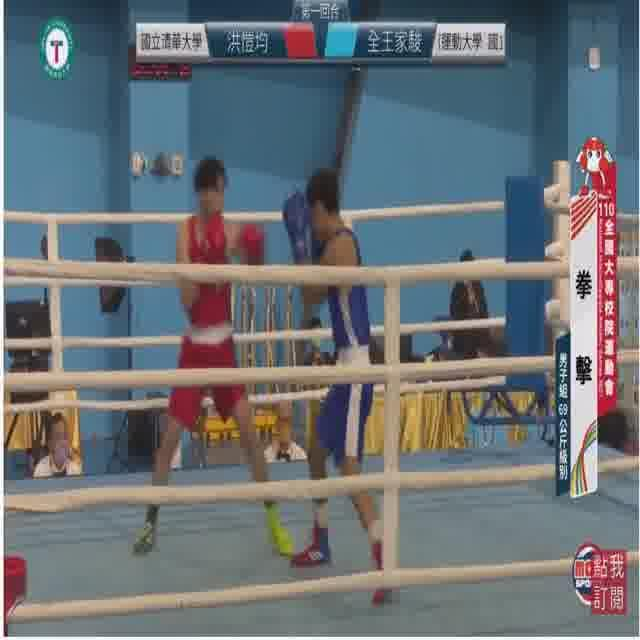blue-player: (279, 163, 398, 607)
red-player: (130, 155, 298, 561)
